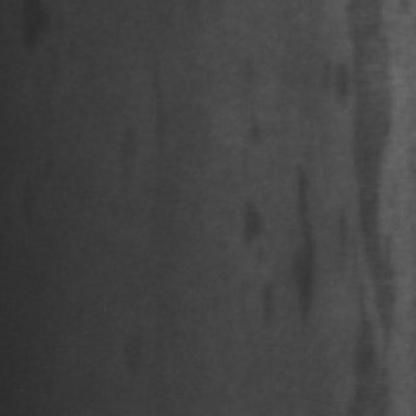inclusion: (334, 2, 404, 408), (278, 156, 328, 339), (141, 46, 179, 160), (233, 200, 275, 262)
